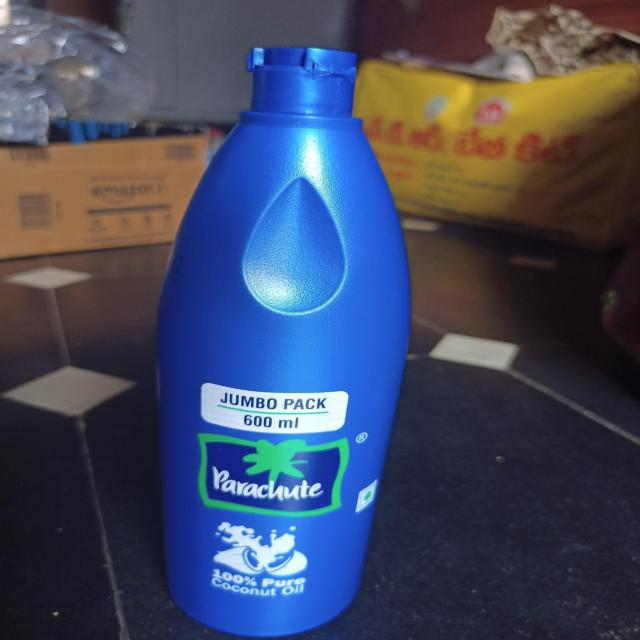parachute_oil: (134, 37, 428, 639)
